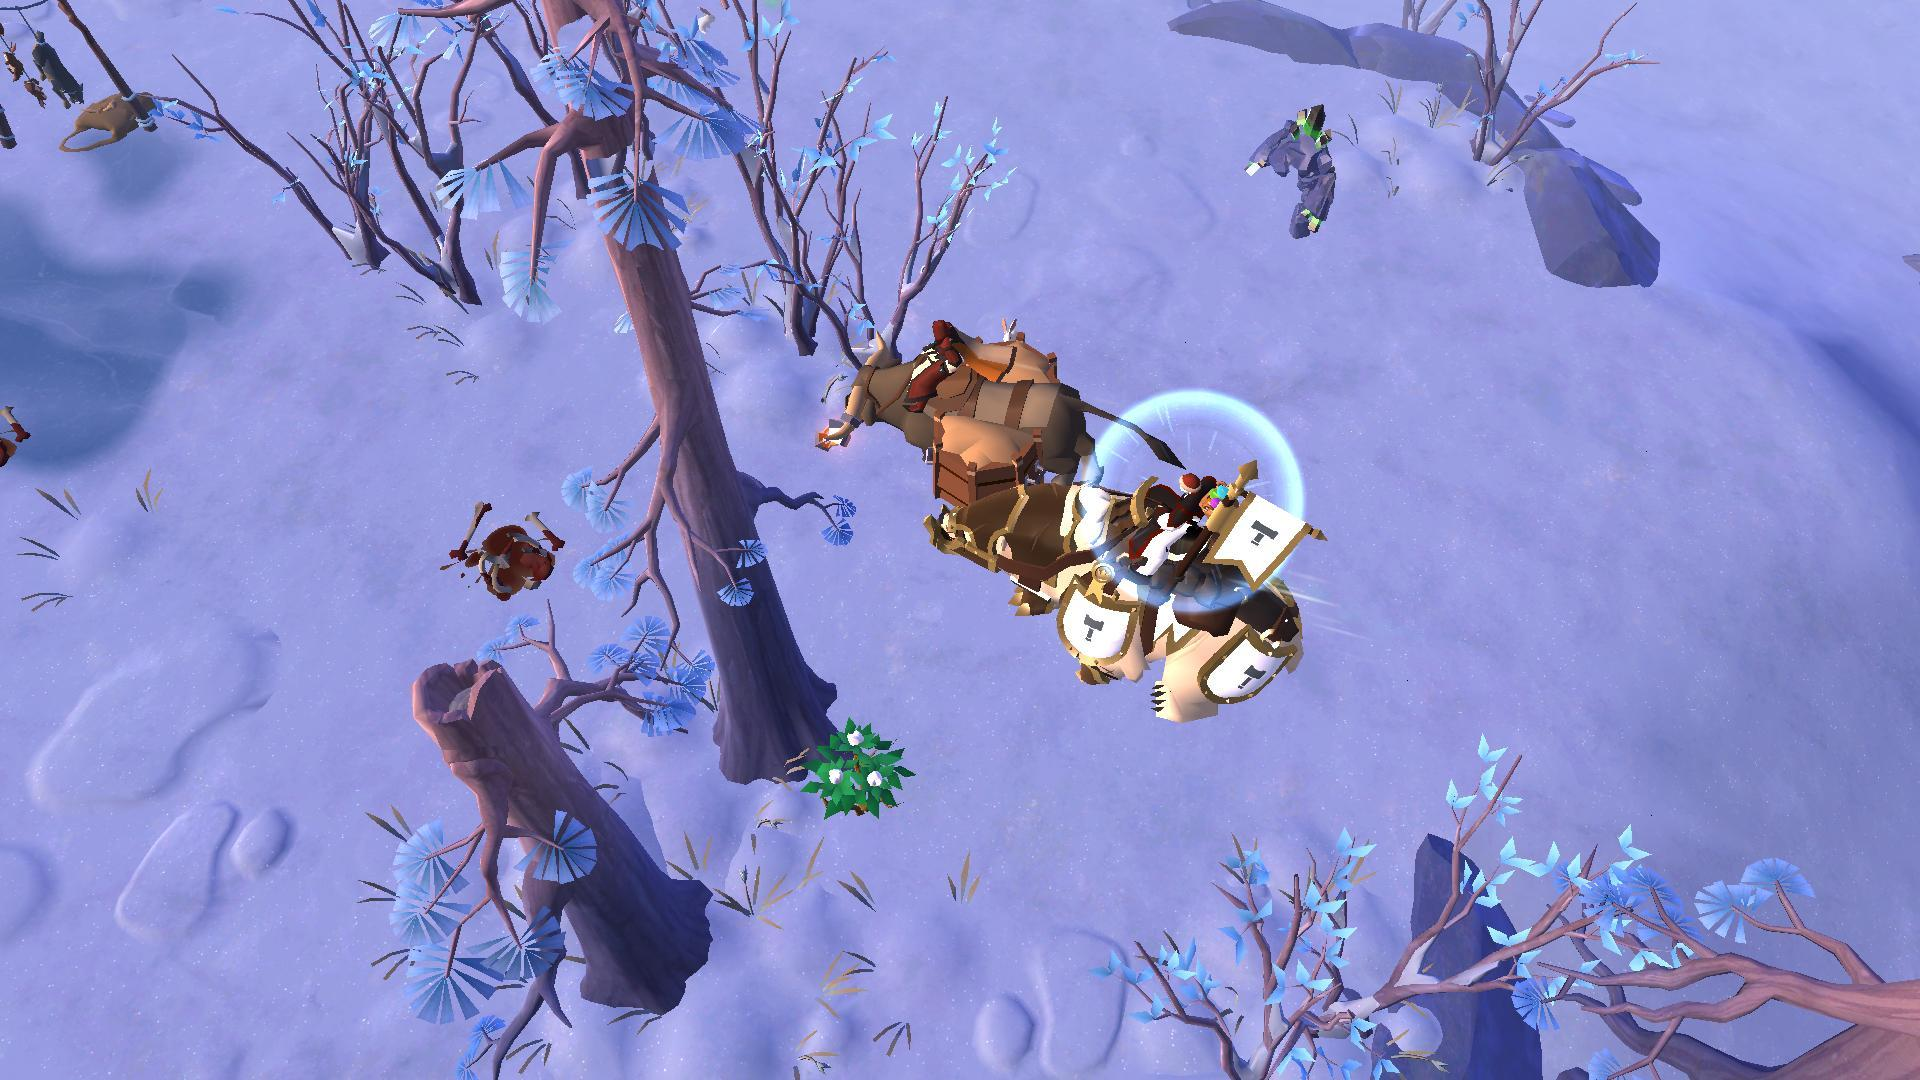fiber_t3: (794, 713, 911, 822)
